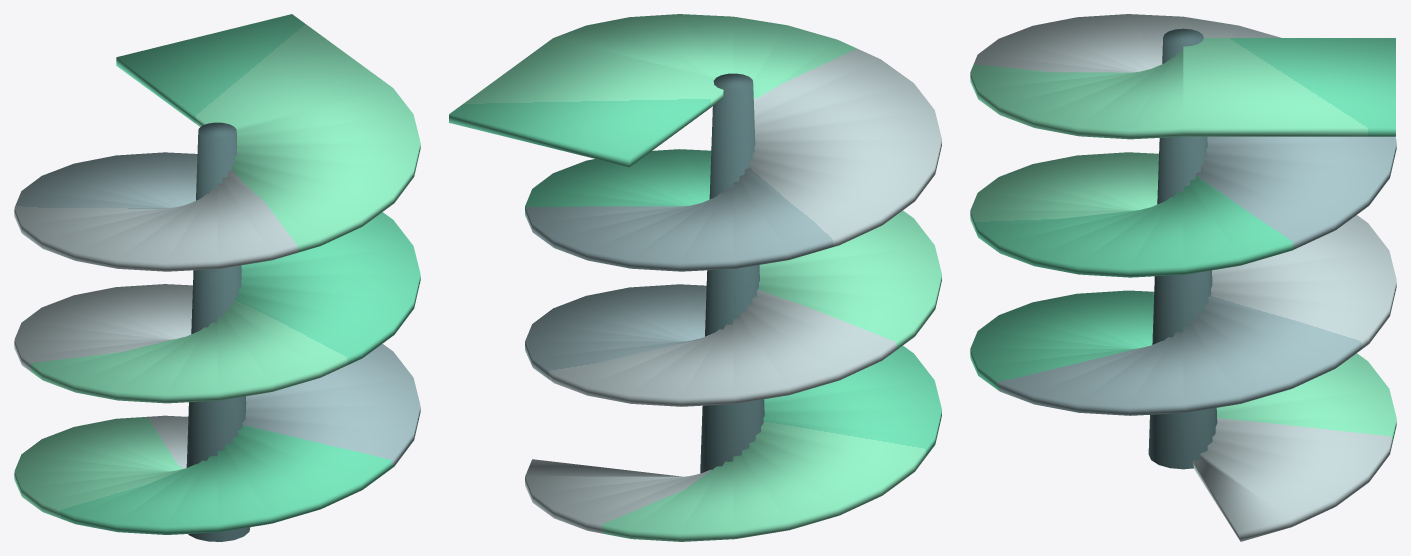
Rendered from LiftScrew.fbx.
3 views of the same model, side by side, from view 1: azimuth 30°, elevation 25°; view 2: azimuth 150°, elevation 25°; view 3: azimuth 270°, elevation 25° (orthographic). The views are drawn at different scales.
Parts seen in each view (by area): view 1: LiftScrew, LiftScrewCnter; view 2: LiftScrew, LiftScrewCnter; view 3: LiftScrew, LiftScrewCnter.
Part boxes in pixels (x1,y1,x2,y2): LiftScrew: [14, 14, 420, 534]; LiftScrewCnter: [186, 122, 250, 541]; LiftScrew: [449, 14, 941, 541]; LiftScrewCnter: [700, 73, 764, 473]; LiftScrew: [970, 14, 1396, 541]; LiftScrewCnter: [1148, 28, 1217, 469].
Bounding box in the file's own units: 43.38 × 43.37 × 46.97.
